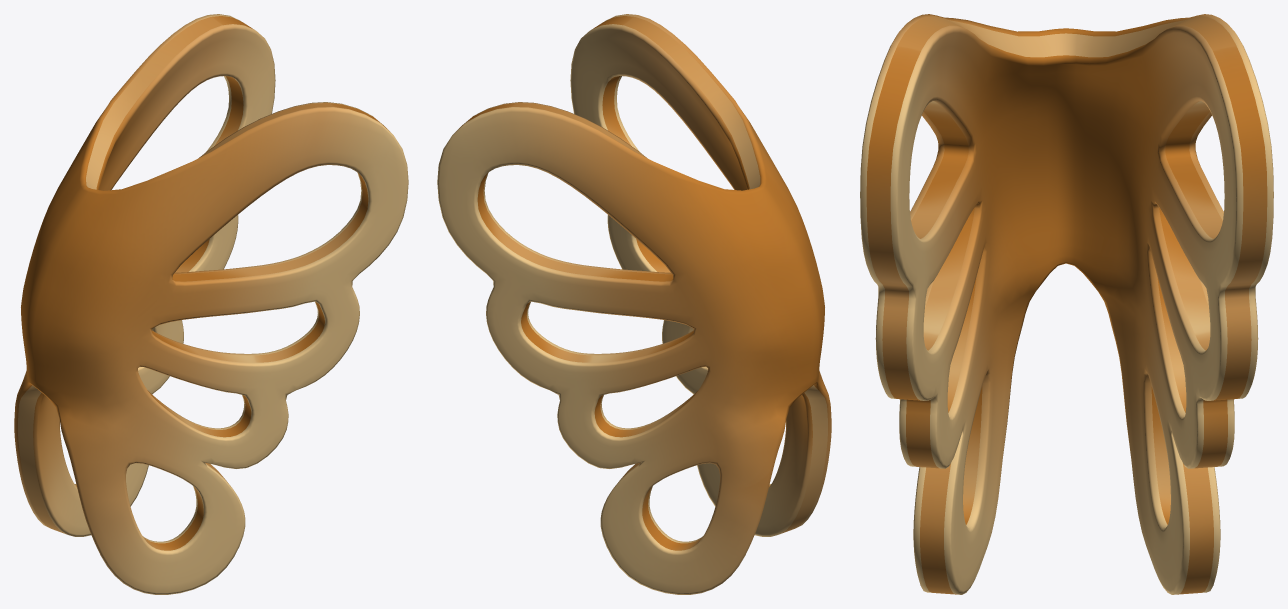
The model's file is tester-1.fbx.
3 renders of one model, left to right at view 1: azimuth 30°, elevation 25°; view 2: azimuth 150°, elevation 25°; view 3: azimuth 270°, elevation 25°, orthographic. The views are drawn at different scales.
Visible parts, largest first — view 1: polySurface3; view 2: polySurface3; view 3: polySurface3.
Boxes of the visible parts, <box> form: polySurface3: <box>14,14,408,594</box>; polySurface3: <box>437,14,831,594</box>; polySurface3: <box>860,14,1273,594</box>.
Size of the model in its own units: 12.27 by 17.54 by 10.32.
